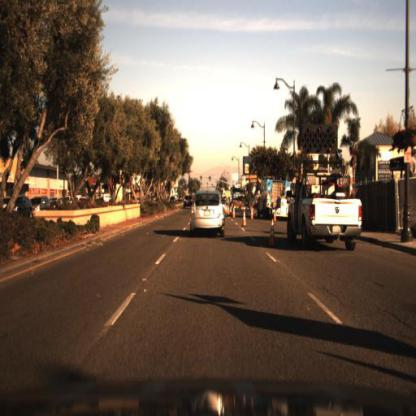car: (287, 166, 366, 245), (187, 190, 227, 241), (228, 185, 253, 220), (182, 193, 195, 214)
pedestrian: (255, 185, 265, 218)
truck: (260, 171, 287, 227)
